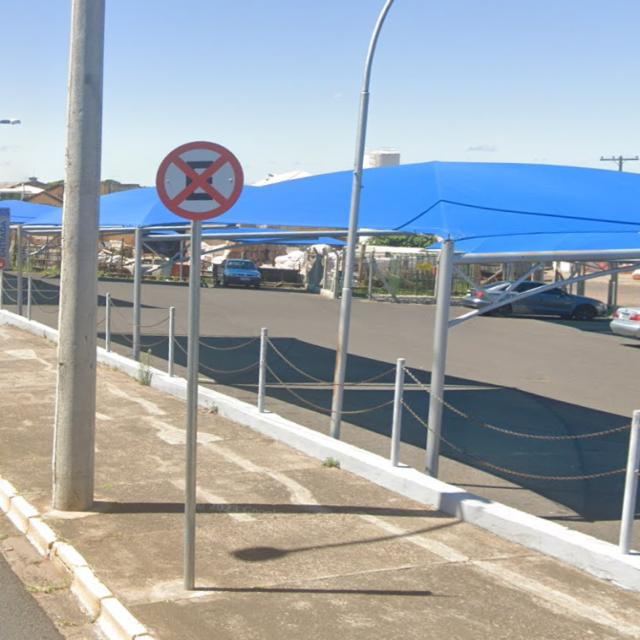no parking: (150, 131, 250, 232)
